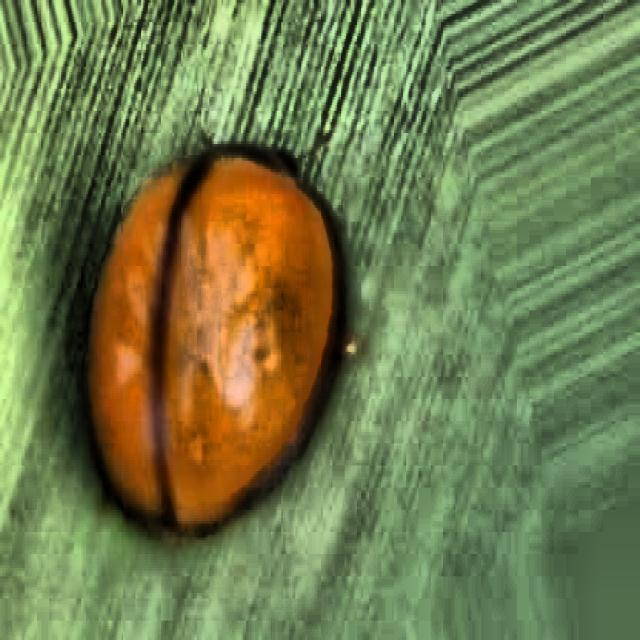Ladybug: (18, 36, 419, 629)
